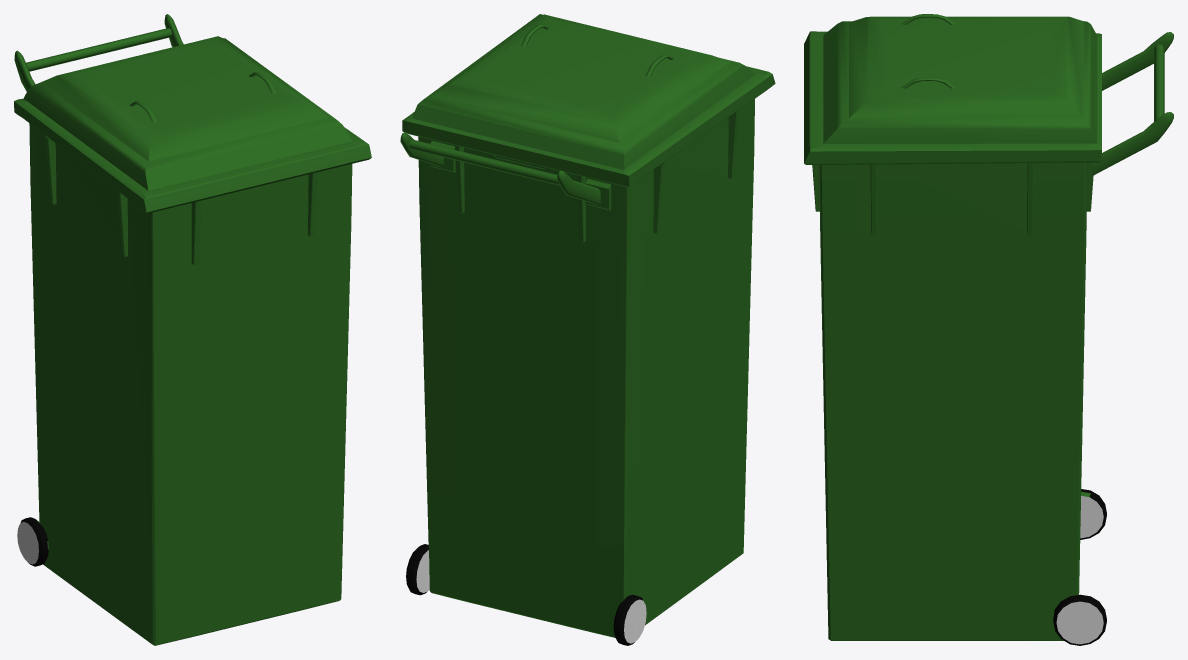
Rendered from tempatsampah.fbx.
The picture shows the model from 3 angles, left to right: view 1: azimuth 30°, elevation 25°; view 2: azimuth 150°, elevation 25°; view 3: azimuth 270°, elevation 25°; orthographic projection. The views are drawn at different scales.
Parts seen in each view (by area): view 1: tongsampah; view 2: tongsampah; view 3: tongsampah.
Boxes of the visible parts, bbox=[...] form: tongsampah: bbox=[14, 14, 371, 645]; tongsampah: bbox=[400, 14, 775, 645]; tongsampah: bbox=[804, 14, 1173, 645].
Bounding box in the file's own units: 125 × 265 × 163.
